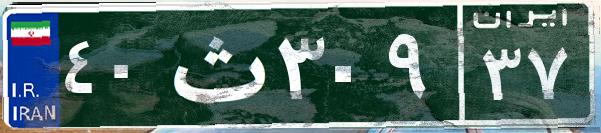0: (330, 28, 385, 110), (110, 28, 158, 105)
3: (273, 28, 330, 110), (475, 38, 525, 113)
4: (57, 26, 110, 107)
7: (525, 38, 570, 115)
9: (385, 28, 445, 110)
ث: (158, 15, 273, 115)
